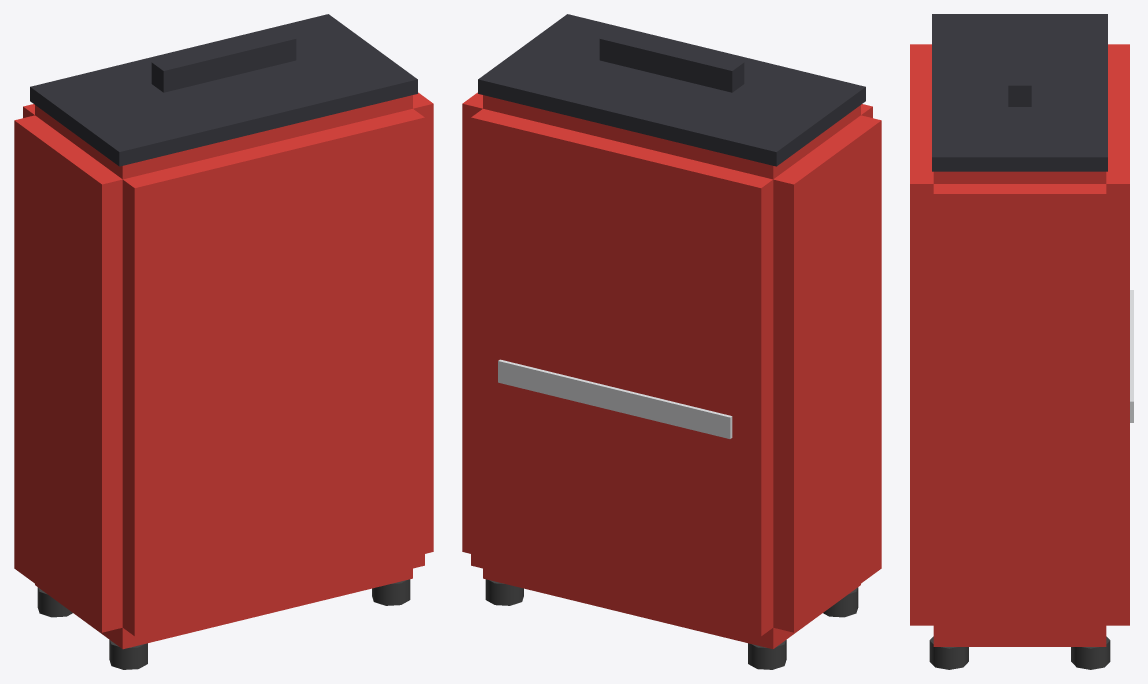
Rendered from suitcase_red.glb.
The picture shows the model from 3 angles, left to right: view 1: azimuth 30°, elevation 25°; view 2: azimuth 150°, elevation 25°; view 3: azimuth 270°, elevation 25°; orthographic projection.
Parts seen in each view (by area): view 1: suitcase_red; view 2: suitcase_red; view 3: suitcase_red.
Part boxes in pixels (x1=…): suitcase_red: x1=14, y1=14, x2=433, y2=669; suitcase_red: x1=462, y1=14, x2=881, y2=669; suitcase_red: x1=910, y1=14, x2=1133, y2=669.
Bounding box in the file's own units: 0.48 × 0.765 × 0.285.
